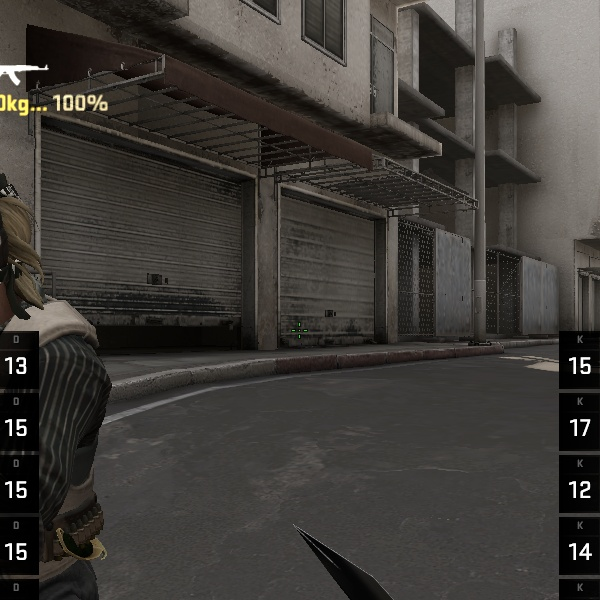t_body: (4, 149, 185, 600)
